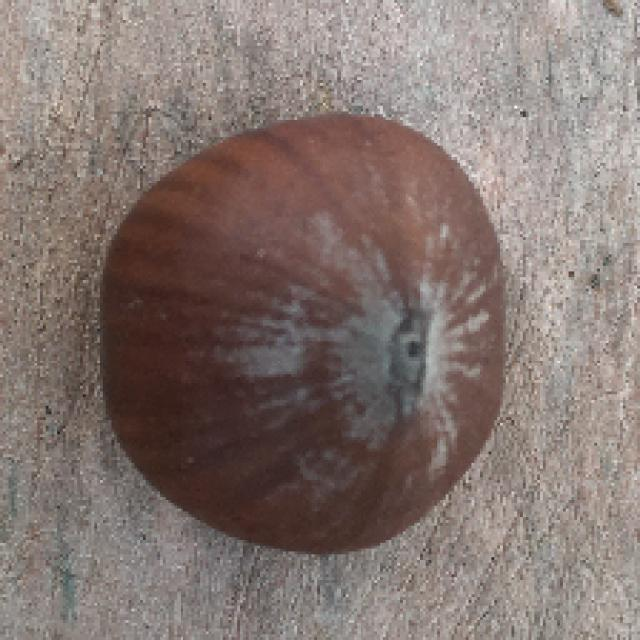DamagedHazelnut: (94, 115, 507, 554)
